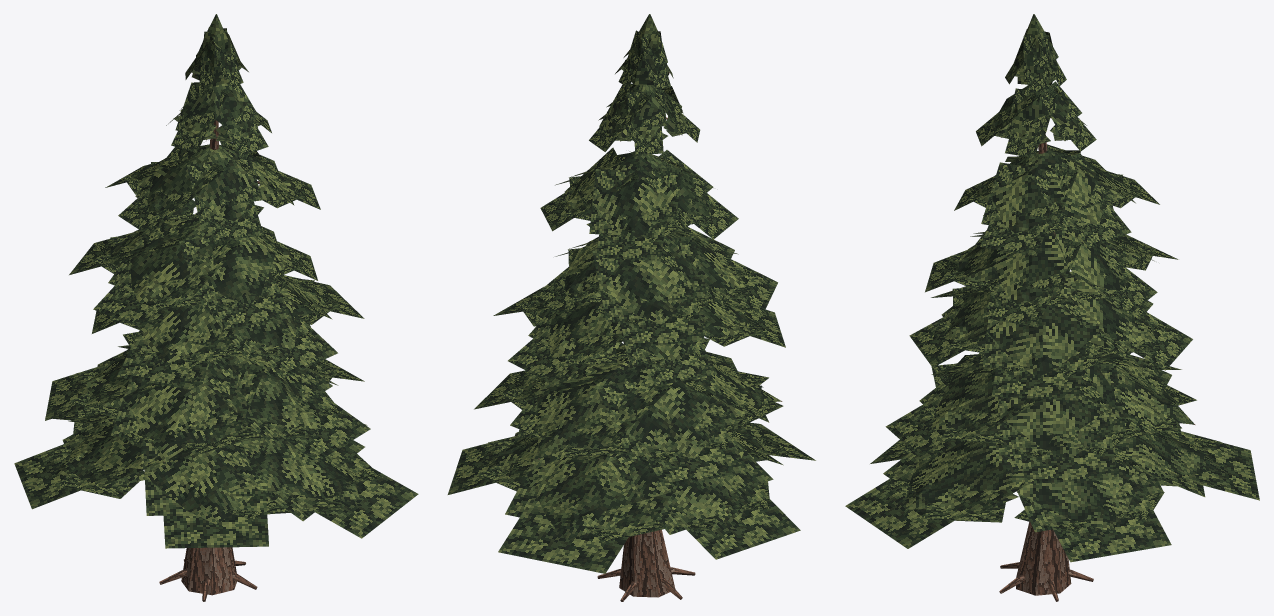
Rendered from TREE_Pine_C.glb.
3 renders of one model, left to right at view 1: azimuth 30°, elevation 25°; view 2: azimuth 150°, elevation 25°; view 3: azimuth 270°, elevation 25°, orthographic.
Visible parts, largest first — view 1: TREE_Pine_C__Card, TREE_Pine_C__Foliage, TREE_Pine_C__Bark; view 2: TREE_Pine_C__Card, TREE_Pine_C__Foliage, TREE_Pine_C__Bark; view 3: TREE_Pine_C__Card, TREE_Pine_C__Foliage, TREE_Pine_C__Bark.
Part boxes in pixels (x1,y1,x2,y2): TREE_Pine_C__Card: [14, 27, 418, 548]; TREE_Pine_C__Foliage: [55, 14, 359, 524]; TREE_Pine_C__Bark: [159, 74, 259, 601]; TREE_Pine_C__Card: [447, 30, 815, 573]; TREE_Pine_C__Foliage: [486, 14, 780, 539]; TREE_Pine_C__Bark: [538, 72, 782, 601]; TREE_Pine_C__Card: [845, 29, 1259, 562]; TREE_Pine_C__Foliage: [905, 14, 1220, 530]; TREE_Pine_C__Bark: [999, 78, 1195, 601].
Size of the model in its own units: 6.63 by 10.71 by 7.06.
3 materials, 3 textured.
